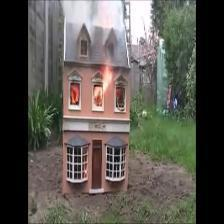fire: (92, 63, 115, 100), (69, 81, 79, 105)
